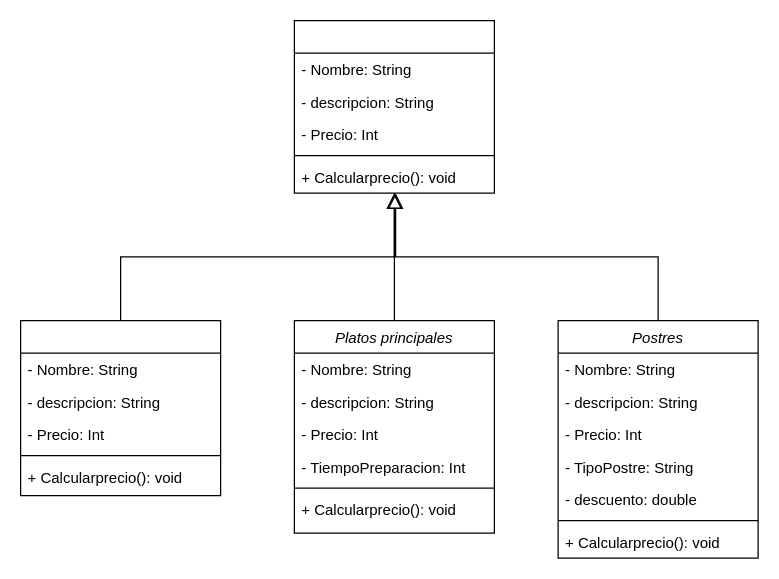
This 779x579 diagram has some shape labels left out. Each missing label, with the box of its shape:
Entrantes: (19, 319, 221, 496)
Plato: (293, 19, 494, 193)
